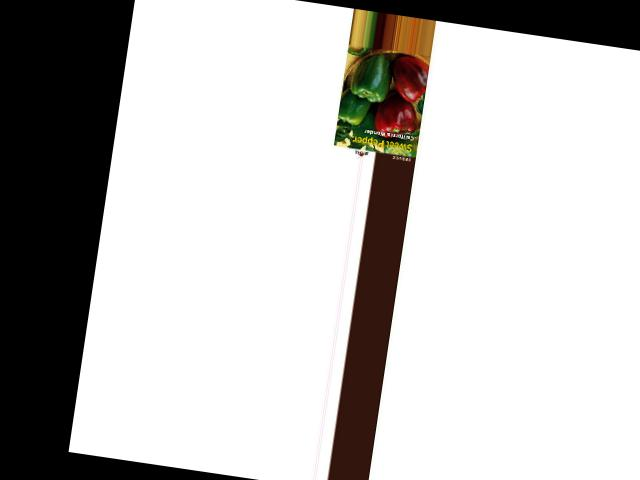bell_pepper: (334, 81, 369, 129)
